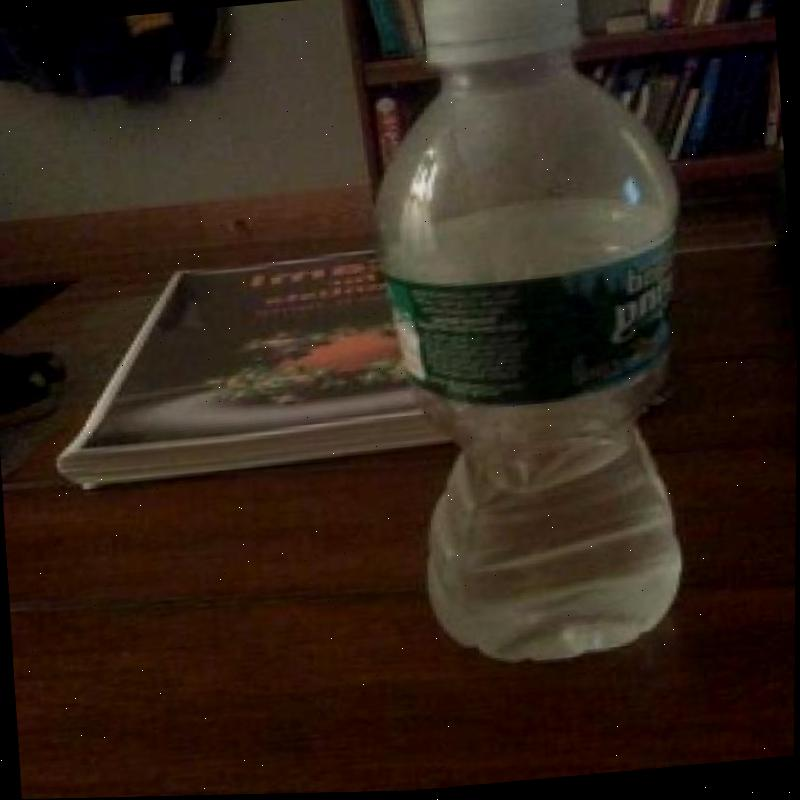botella: (351, 0, 714, 682)
